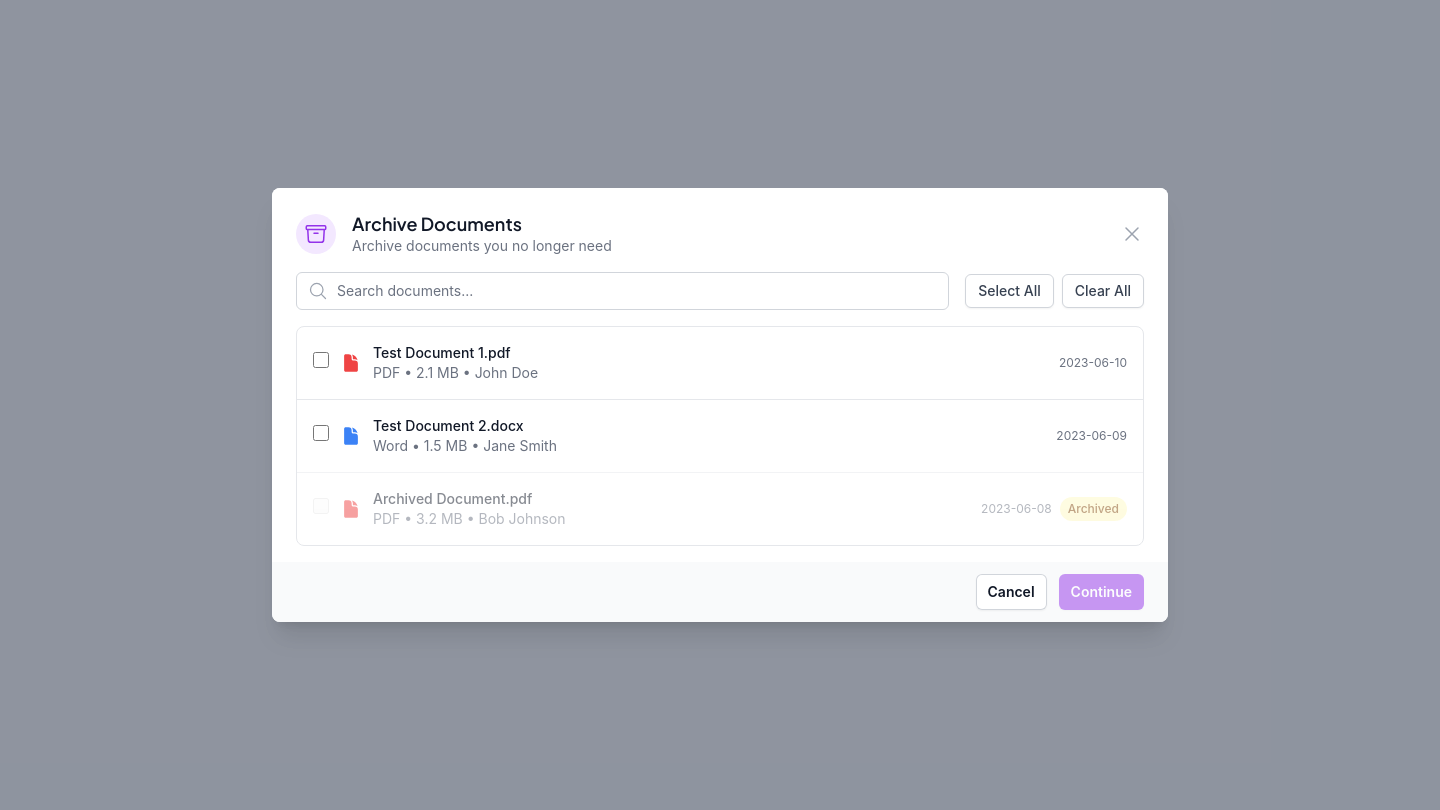
Test case: ArchiveDocumentsModal › shows confirmation step after selecting documents
# Select a document
Click the checkbox next to "Test Document 1.pdf".
click(321, 360)  # box [313,352,329,368]
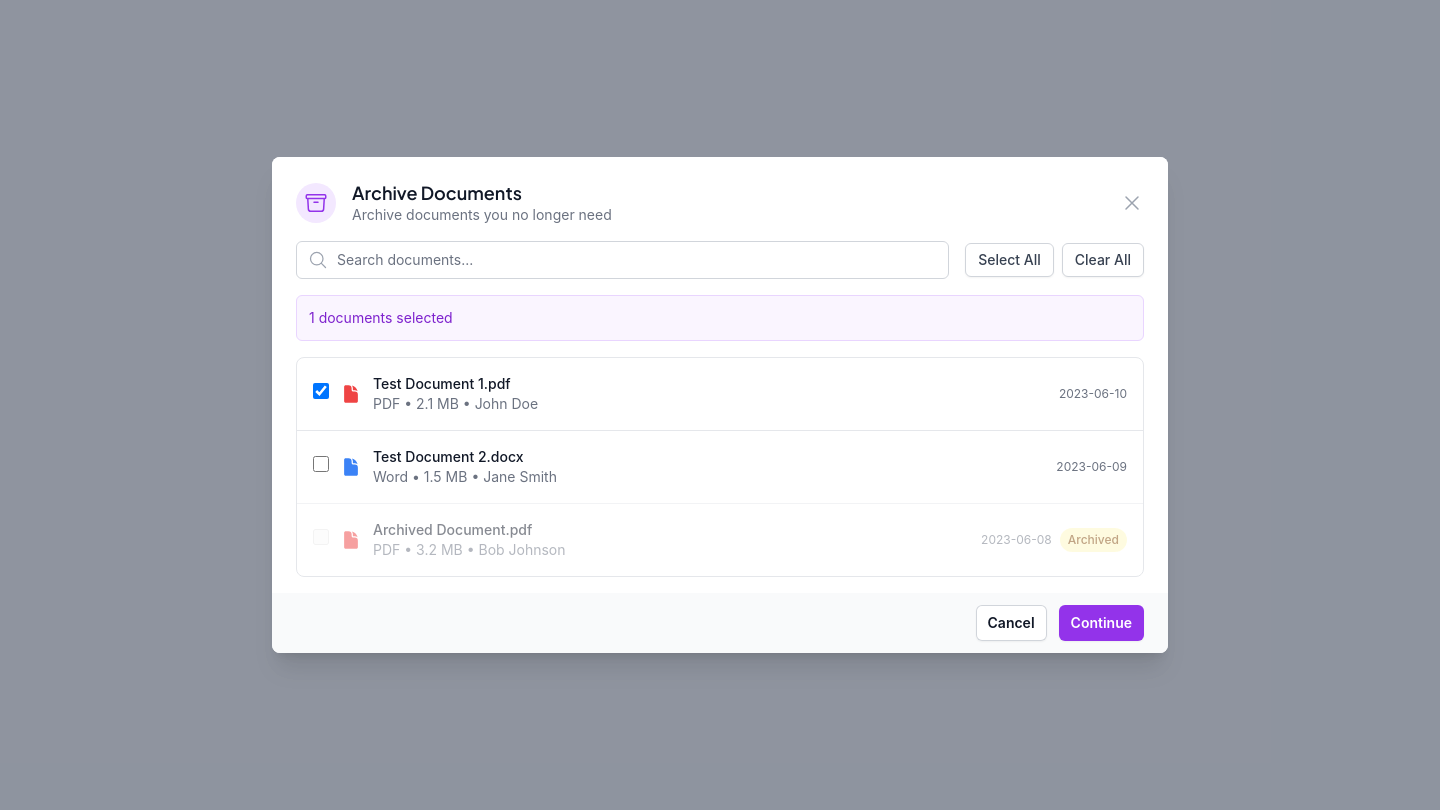
# Click continue
Click the button "Continue".
click(1101, 623)  # box [1059,605,1144,641]
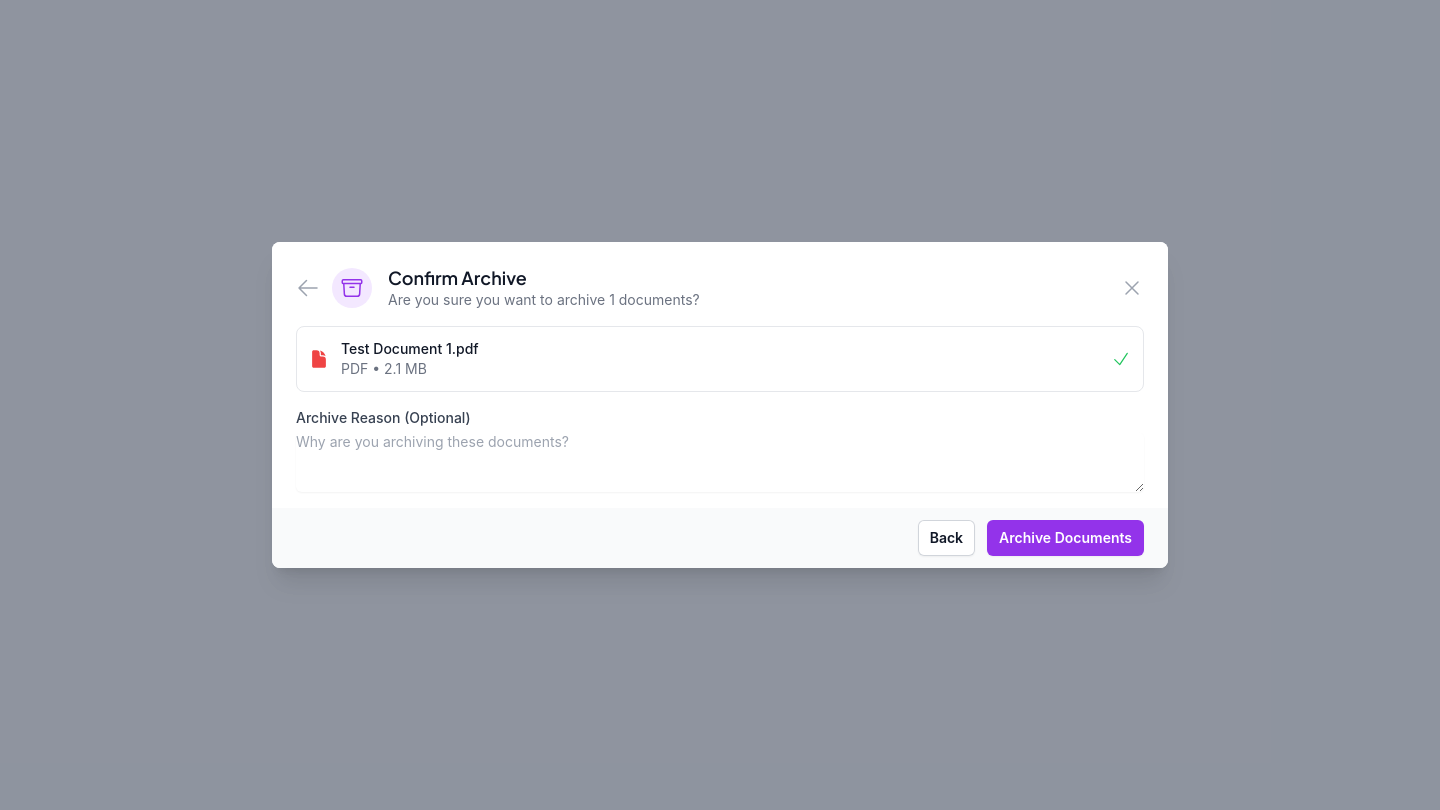
Now the heading "Confirm Archive" is shown, box [388,266,527,289]
Now the text "Are you sure you want to archive 1 documents?" is shown, box [388,290,700,310]
